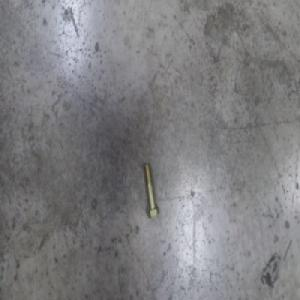Bolt: (143, 163, 160, 220)
